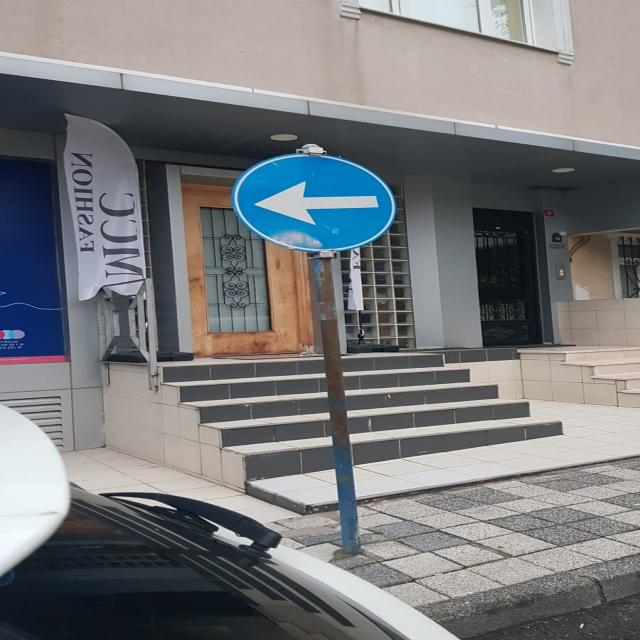Turn Left: (223, 156, 398, 250)
